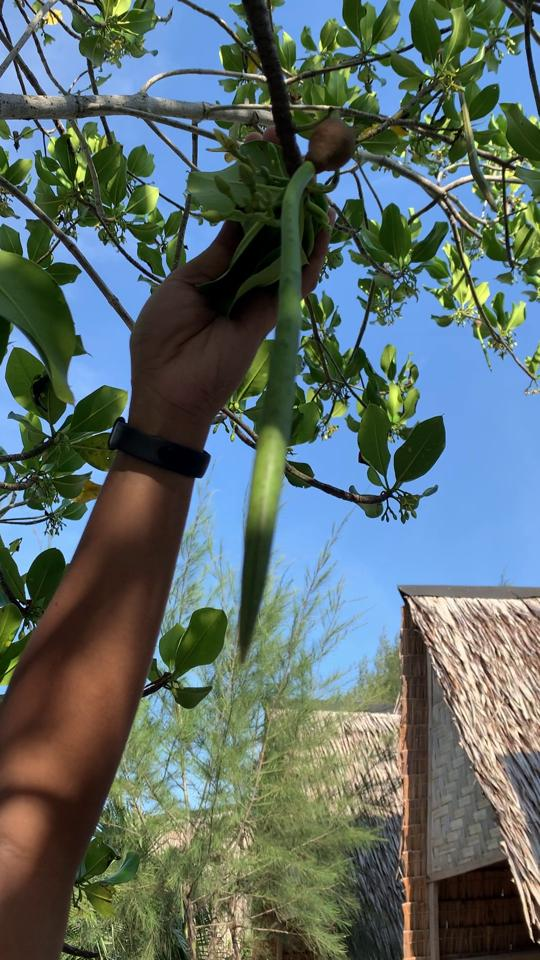mentah: (222, 101, 367, 670)
